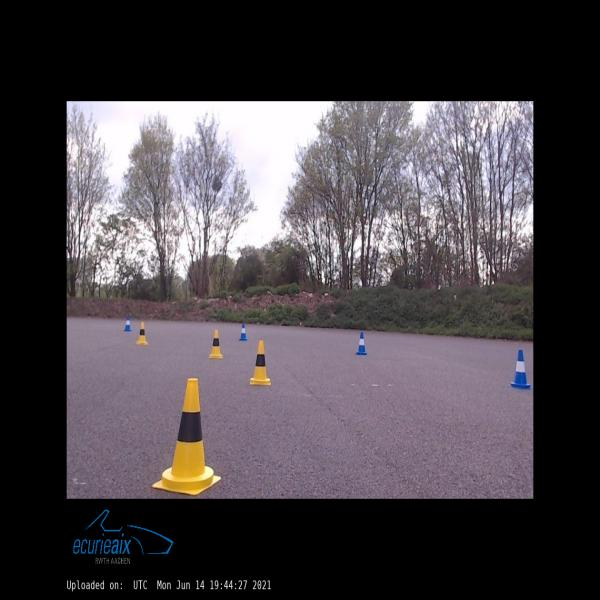blue_cone: (508, 350, 532, 390), (355, 332, 367, 355), (238, 323, 248, 341), (123, 315, 132, 331)
yellow_cone: (152, 379, 221, 495), (250, 340, 271, 386), (208, 329, 223, 358), (136, 322, 148, 344)
